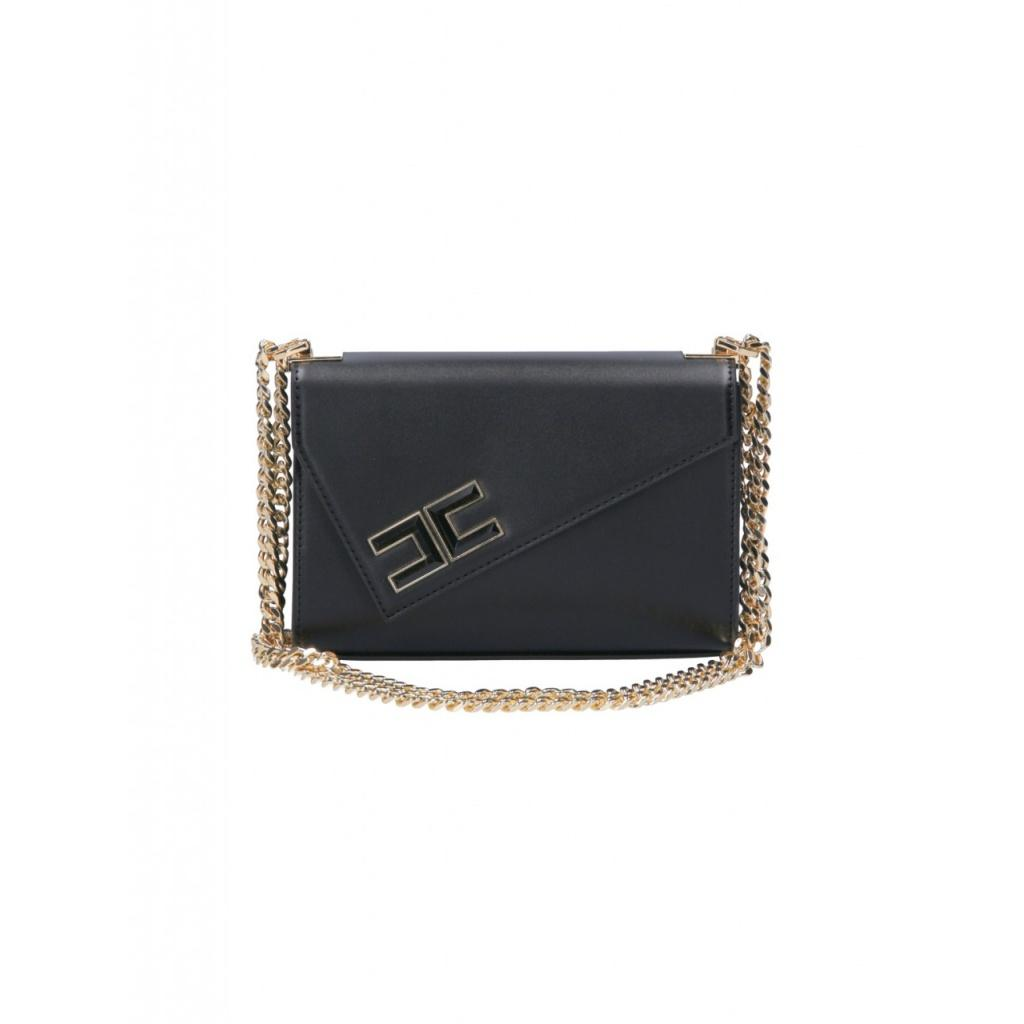ELISABETTA-FRANCHI: (338, 468, 544, 608)
